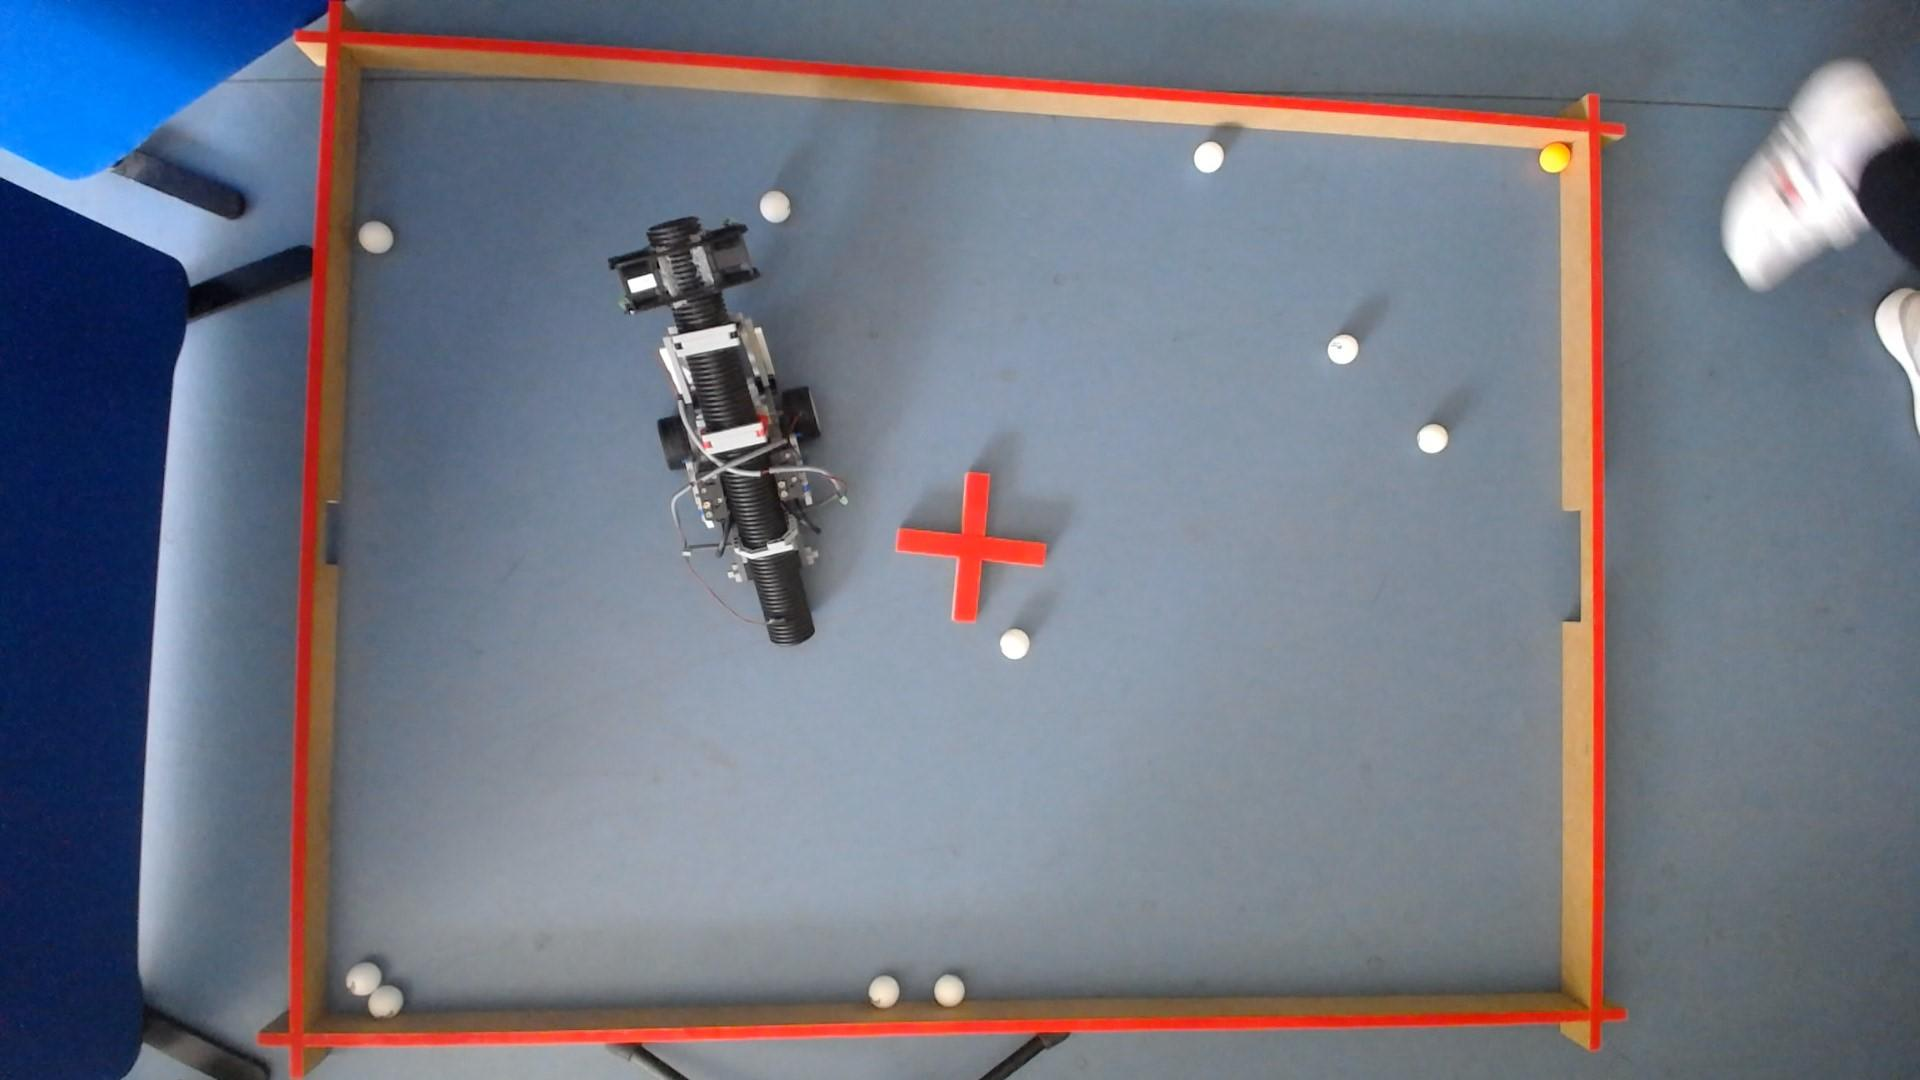orange: (1541, 139, 1574, 172)
robot: (608, 215, 847, 642)
white: (343, 961, 381, 998), (758, 186, 792, 222), (366, 985, 402, 1019), (356, 218, 392, 252), (868, 975, 900, 1010), (934, 975, 966, 1008), (1195, 138, 1226, 170), (1000, 628, 1031, 659), (1329, 332, 1361, 362), (1420, 422, 1451, 452)
